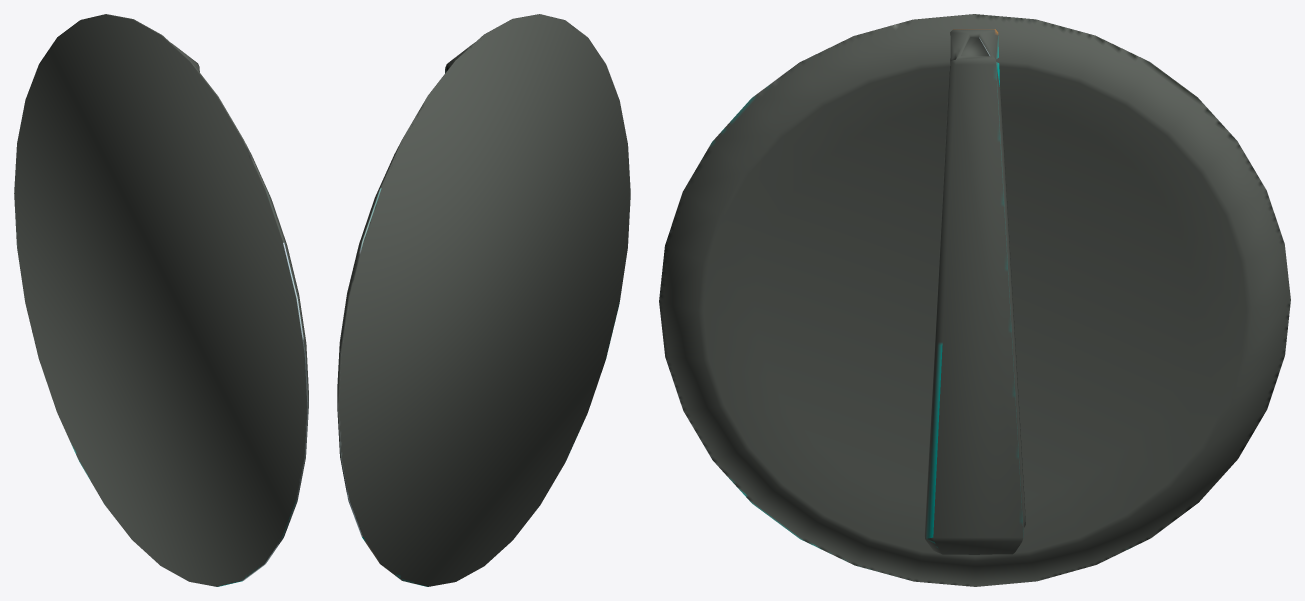
Rendered from MultiMeter_RotatingElement+.obj.
3 views of the same model, side by side, from view 1: azimuth 30°, elevation 25°; view 2: azimuth 150°, elevation 25°; view 3: azimuth 270°, elevation 25° (orthographic). The views are drawn at different scales.
Visible parts, largest first — view 1: Multimeter_Cube.001_Cube.004; view 2: Multimeter_Cube.001_Cube.004; view 3: Multimeter_Cube.001_Cube.004.
Part boxes in pixels (x1=…): Multimeter_Cube.001_Cube.004: x1=14, y1=14, x2=308, y2=586; Multimeter_Cube.001_Cube.004: x1=337, y1=14, x2=630, y2=586; Multimeter_Cube.001_Cube.004: x1=659, y1=14, x2=1290, y2=586.
Size of the model in its own units: 0.00184 by 0.0307 by 0.0307.
1 material, 1 textured.
